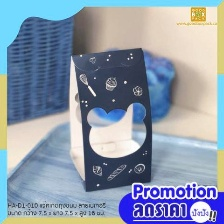snack: (61, 41, 158, 196)
